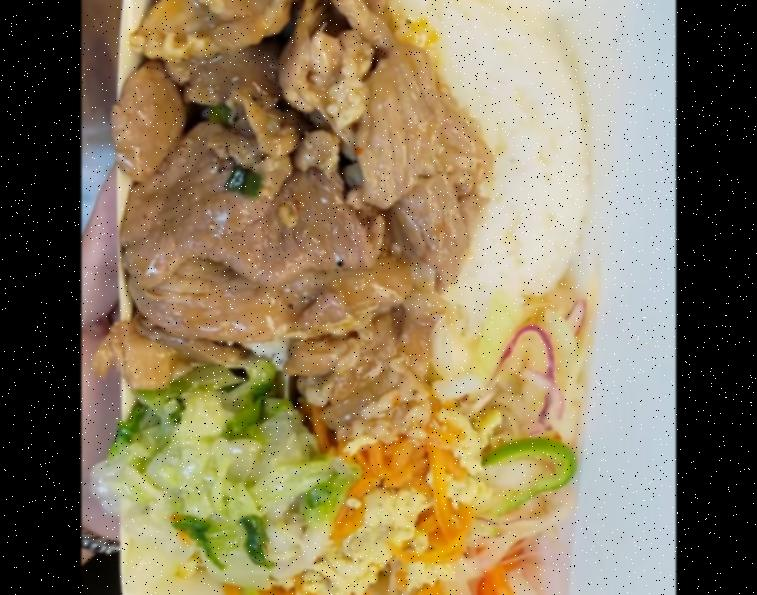box: (98, 0, 643, 595)
pork with scrambled eggs: (117, 0, 479, 393)
side dish: (132, 374, 340, 580), (462, 312, 593, 595), (316, 404, 460, 595)
white rice: (268, 0, 587, 340)
